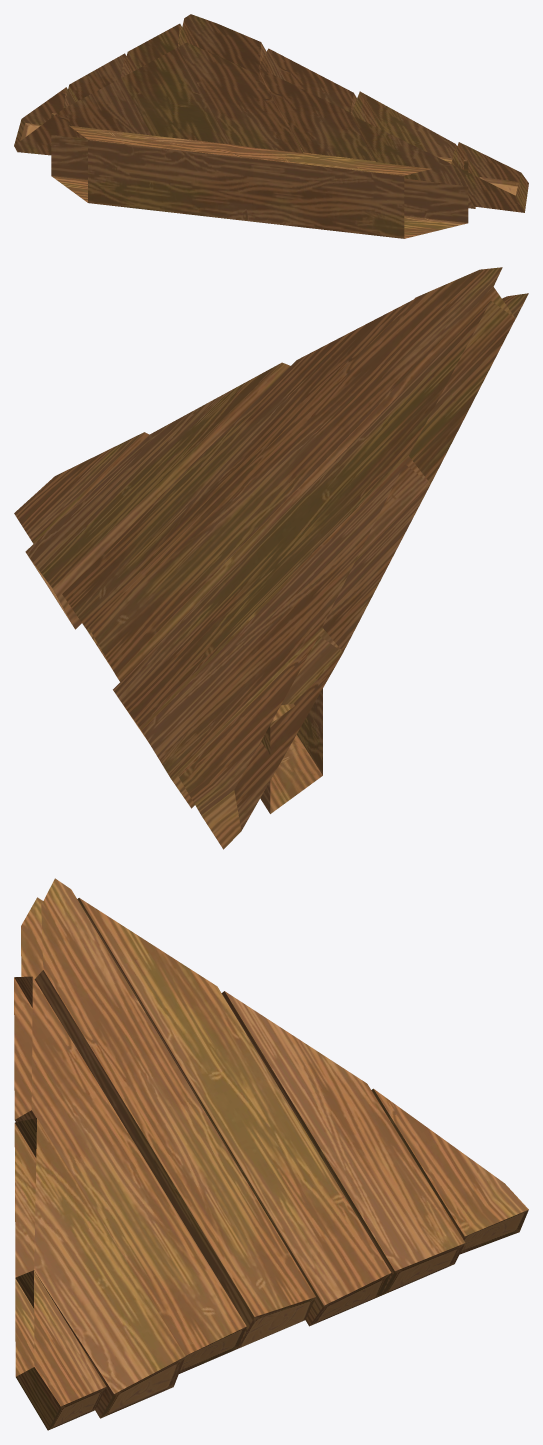
File: Roof_Wooden_2x1_Corner.glb
3 renders of one model, top to bottom at view 1: azimuth 30°, elevation 25°; view 2: azimuth 150°, elevation 25°; view 3: azimuth 270°, elevation 25°, orthographic. The views are drawn at different scales.
Visible parts, largest first — view 1: Roof_Wooden_2x1_Corner; view 2: Roof_Wooden_2x1_Corner; view 3: Roof_Wooden_2x1_Corner.
Part boxes in pixels (x1,y1,x2,y2): Roof_Wooden_2x1_Corner: (14, 14, 528, 238); Roof_Wooden_2x1_Corner: (14, 267, 528, 849); Roof_Wooden_2x1_Corner: (14, 878, 528, 1430).
Bounding box in the file's own units: 1.54 × 1.18 × 1.56.
Materials: 1 (1 with a texture image).
